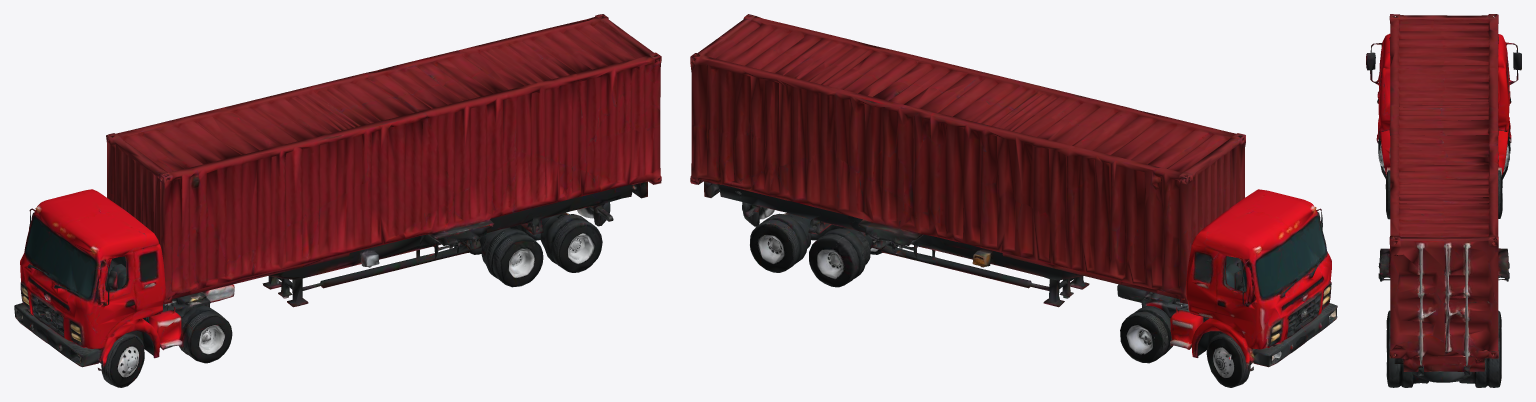
Rendered from container.glb.
3 views of the same model, side by side, from view 1: azimuth 30°, elevation 25°; view 2: azimuth 150°, elevation 25°; view 3: azimuth 270°, elevation 25° (orthographic). The views are drawn at different scales.
Size of the model in its own units: 2 by 0.6419 by 0.4907.
1 material, 1 textured.
